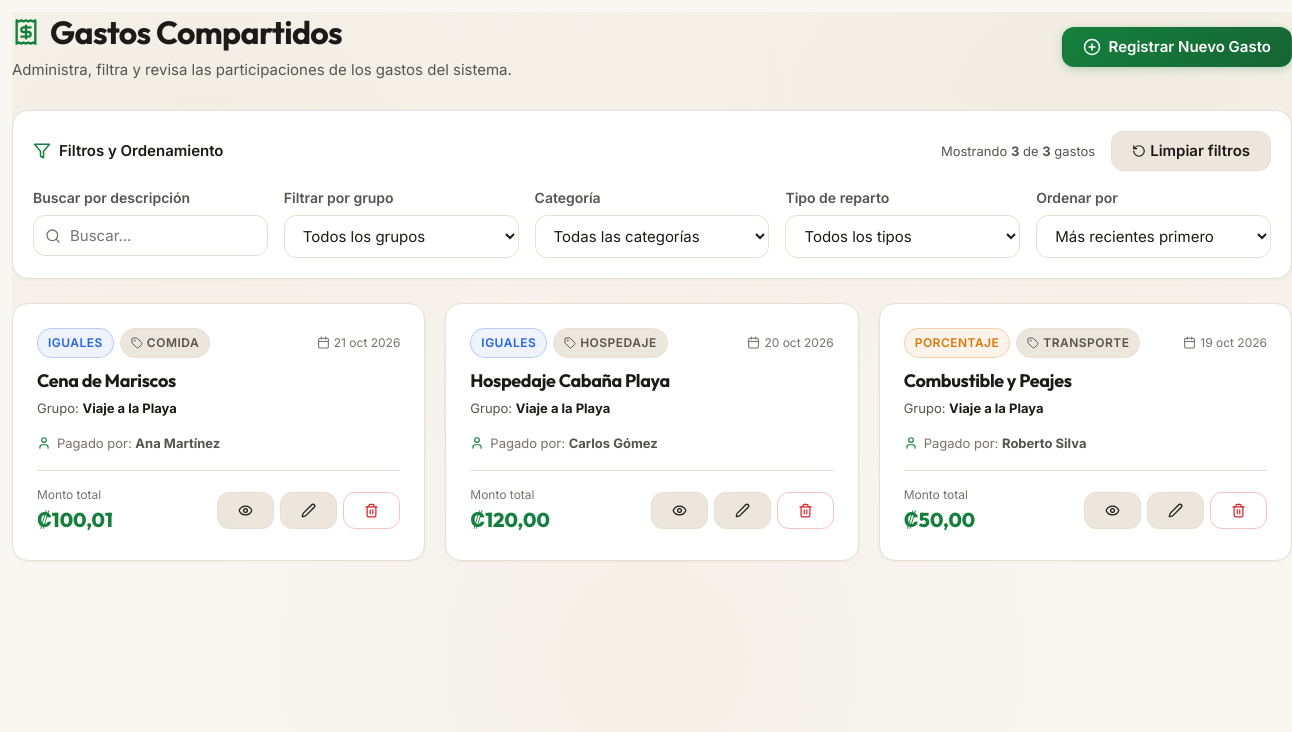
Scenario: ExpensesPage component › filtra gastos por descripción dinámicamente
Expected: the heading "Hospedaje Cabaña Playa" is shown, left=470, top=369, right=670, bottom=392
Expected: the heading "Cena de Mariscos" is shown, left=37, top=369, right=176, bottom=392
# Buscar "Mariscos"
Type "Mariscos" into the field with placeholder "Buscar..." at (150, 236), box left=33, top=215, right=268, bottom=256
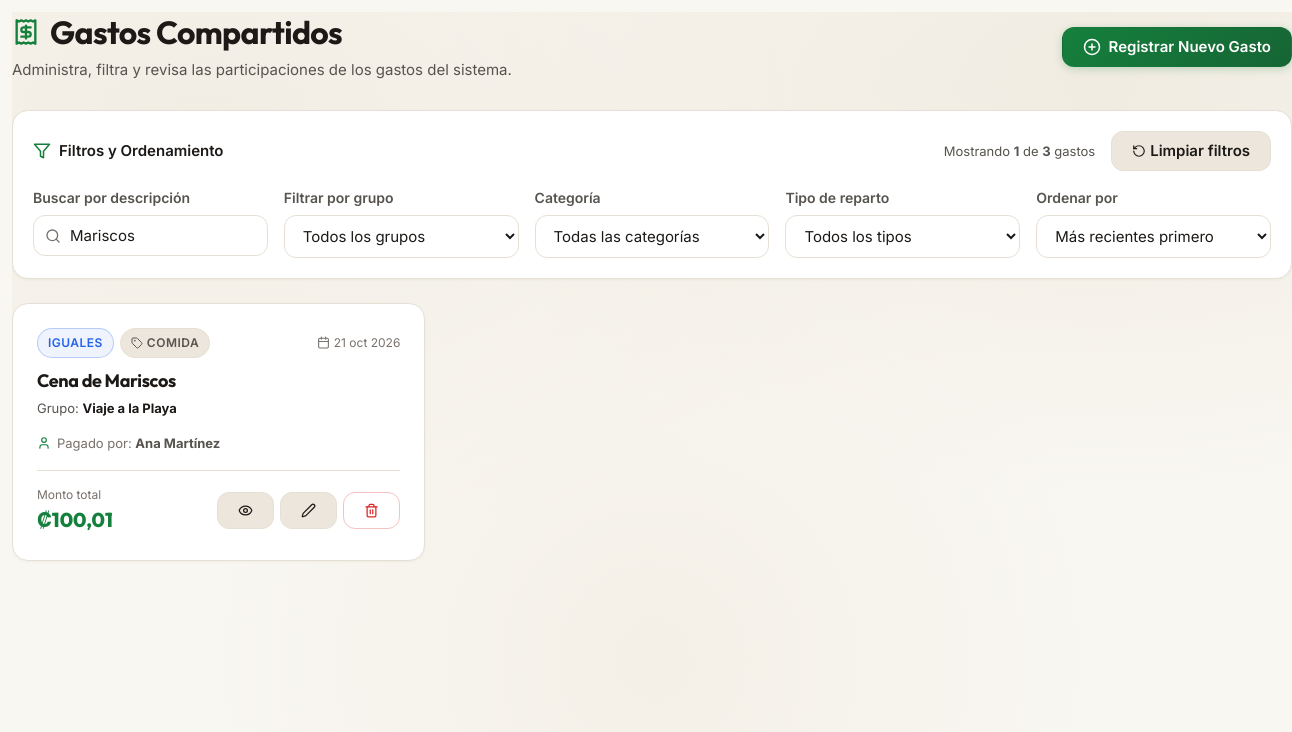
Expected: the heading "Cena de Mariscos" is shown, left=37, top=369, right=176, bottom=392
Now the heading "Hospedaje Cabaña Playa" is gone
Now the heading "Combustible y Peajes" is gone
